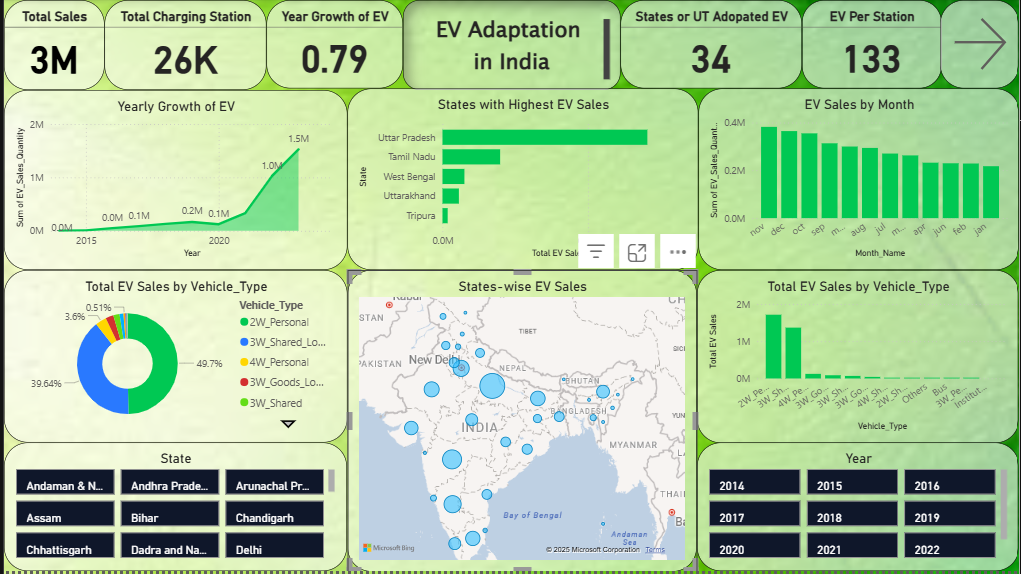

What the dashboard file says about the page in this screenshot:
{"tool":"powerbi","page":{"name":"EV ","canvas":[1280,720],"ordinal":0},"visuals":[{"type":"card","title":"Total Sales","fields":{"Values":["EV_Sales.Total EV Sales"]},"box":[0,0,126.6,113.4],"z":0},{"type":"card","title":"Year Growth of EV","fields":{"Values":["EV_Sales.YoY Growth"]},"box":[330.7,0,172,111.5],"z":1000},{"type":"card","title":"EV Per Station","fields":{"Values":["EV_Sales.EV per Station"]},"box":[1005.4,0,175.7,111.5],"z":2000},{"type":"card","title":"Total Charging Station","fields":{"Values":["ChargingStations.Total Charging Stations"]},"box":[126.6,0,204.1,113.4],"z":3000},{"type":"lineChart","title":"Yearly Growth of EV","fields":{"Y":["Sum(EV_Sales.EV_Sales_Quantity)"],"Category":["EV_Sales.Year"]},"box":[0,113.4,432.8,226.8],"z":4000},{"type":"textbox","box":[502.7,0,274,113.4],"z":5000},{"type":"columnChart","title":"EV Sales by Month","fields":{"Category":["EV_Sales.Month_Name"],"Y":["Sum(EV_Sales.EV_Sales_Quantity)"]},"box":[875,111.5,404.4,228.7],"z":6000},{"type":"barChart","title":"States with Highest EV Sales","fields":{"Category":["EV_Sales.State"],"Y":["EV_Sales.Total EV Sales"]},"box":[432.8,111.5,442.2,228.7],"z":7000},{"type":"donutChart","fields":{"Category":["EV_Sales.Vehicle_Type"],"Y":["EV_Sales.Total EV Sales"]},"box":[0,340.2,432.8,217.3],"z":8000},{"type":"card","title":"States or UT Adopated EV","fields":{"Values":["EV_Sales.States_with_EV_Sales"]},"box":[776.7,0,228.7,111.5],"z":9000},{"type":"columnChart","fields":{"Category":["EV_Sales.Vehicle_Type"],"Y":["EV_Sales.Total EV Sales"]},"box":[874,340,406,218],"z":10000},{"type":"map","title":"States-wise EV Sales","fields":{"Category":["EV_Sales.State"],"Size":["EV_Sales.Total EV Sales"]},"box":[432,340,442,380],"z":11000},{"type":"advancedSlicerVisual","fields":{"Values":["EV_Sales.Year"]},"box":[874,558,406,162],"z":12000},{"type":"advancedSlicerVisual","title":"State","fields":{"Values":["EV_Sales.State"]},"box":[0,558,432,162],"z":13000},{"type":"actionButton","box":[1179.2,0,100.2,111.5],"z":13001}]}

Visuals, with their boxes in screenshot pixels (x1, y1, x2, y2), scaled from the page's 1280x720 canvas onto the 1021x574 screenshot:
"Total Sales" card: box=[0, 0, 101, 90]
"Year Growth of EV" card: box=[264, 0, 401, 89]
"EV Per Station" card: box=[802, 0, 942, 89]
"Total Charging Station" card: box=[101, 0, 264, 90]
"Yearly Growth of EV" lineChart: box=[0, 90, 345, 271]
textbox: box=[401, 0, 620, 90]
"EV Sales by Month" columnChart: box=[698, 89, 1020, 271]
"States with Highest EV Sales" barChart: box=[345, 89, 698, 271]
donutChart - EV_Sales.Vehicle_Type x EV_Sales.Total EV Sales: box=[0, 271, 345, 444]
"States or UT Adopated EV" card: box=[620, 0, 802, 89]
columnChart - EV_Sales.Vehicle_Type x EV_Sales.Total EV Sales: box=[697, 271, 1020, 445]
"States-wise EV Sales" map: box=[345, 271, 697, 573]
advancedSlicerVisual - EV_Sales.Year: box=[697, 445, 1020, 573]
"State" advancedSlicerVisual: box=[0, 445, 345, 573]
actionButton: box=[941, 0, 1020, 89]
